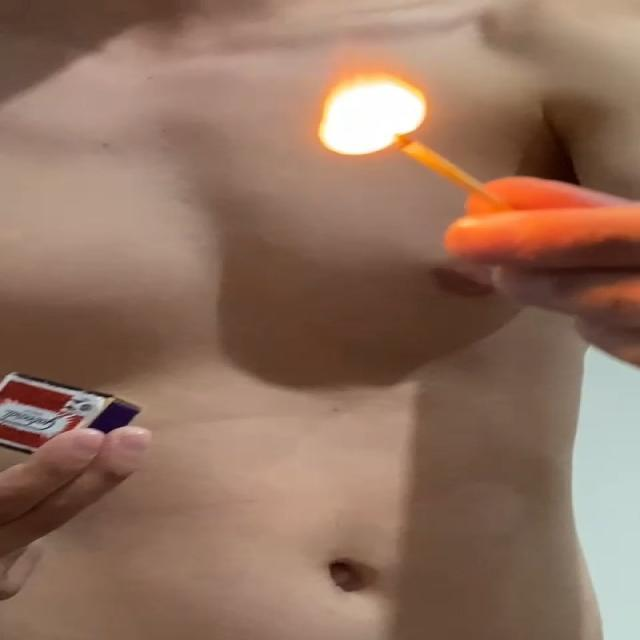fire: (305, 35, 438, 157)
